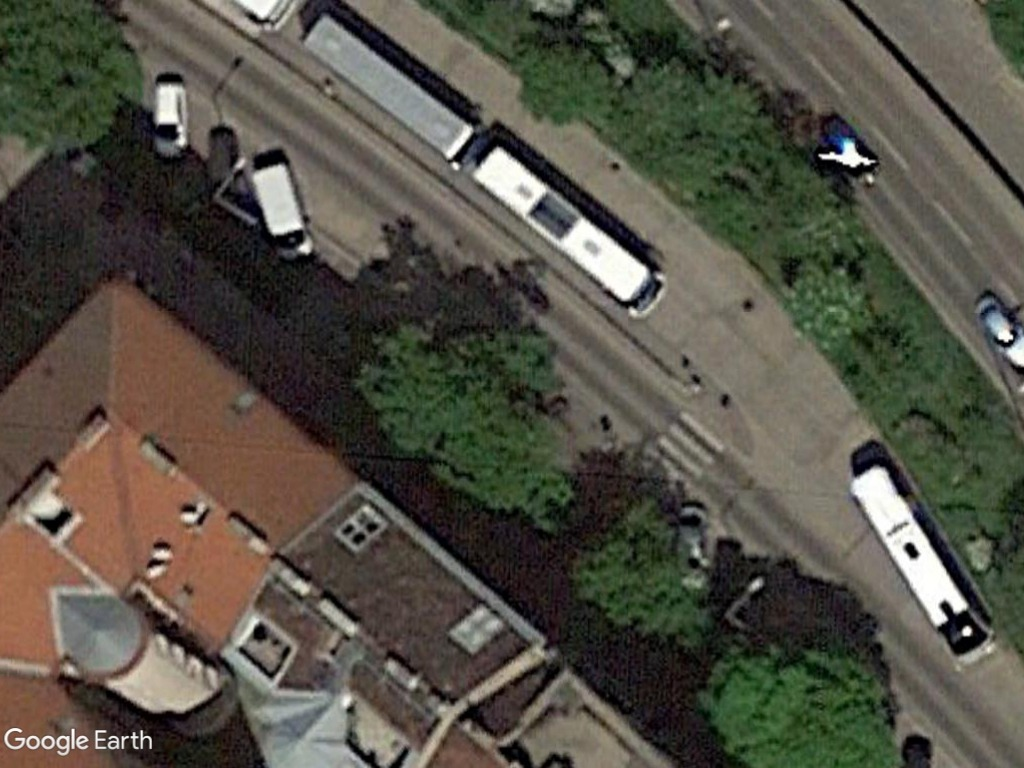bus: (468, 139, 673, 324), (843, 458, 999, 672), (297, 7, 483, 166)
car: (150, 78, 189, 162)
van: (246, 155, 317, 267)
